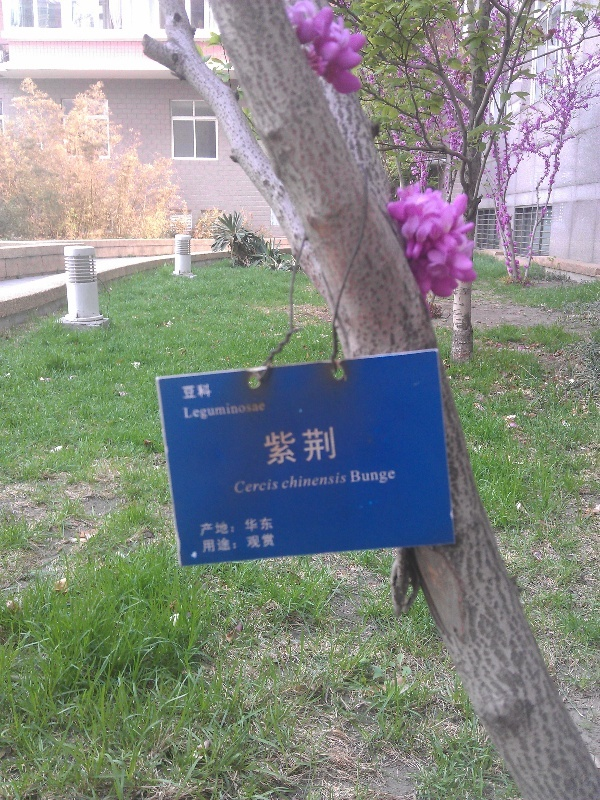text: (273, 425, 288, 467), (289, 425, 304, 467), (305, 425, 320, 467), (321, 425, 336, 467), (263, 425, 272, 467), (209, 515, 224, 539), (225, 515, 240, 539), (241, 515, 256, 539), (257, 515, 272, 539), (193, 400, 208, 423), (209, 400, 224, 423), (225, 400, 240, 423), (241, 400, 256, 423), (193, 381, 208, 402), (209, 533, 224, 553), (225, 533, 240, 553), (241, 533, 256, 553), (257, 533, 272, 553), (353, 467, 368, 487), (369, 467, 384, 487), (289, 471, 304, 490), (305, 471, 320, 490), (321, 471, 336, 490), (179, 381, 192, 402), (241, 477, 256, 495), (257, 477, 272, 495), (197, 515, 208, 539), (385, 467, 397, 487), (257, 400, 267, 423), (337, 471, 348, 490), (183, 400, 192, 423), (200, 533, 208, 553), (281, 471, 288, 490), (233, 477, 240, 495), (273, 477, 280, 495), (209, 381, 215, 402), (337, 425, 339, 467), (273, 533, 277, 553), (273, 515, 276, 539), (350, 467, 352, 487)
